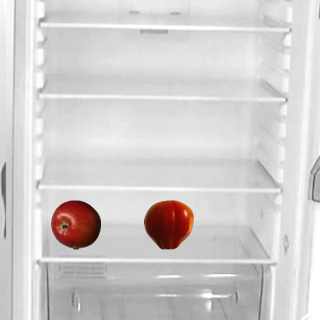Apple Braeburn: (50, 199, 100, 249)
Tomato 1: (143, 199, 193, 249)
